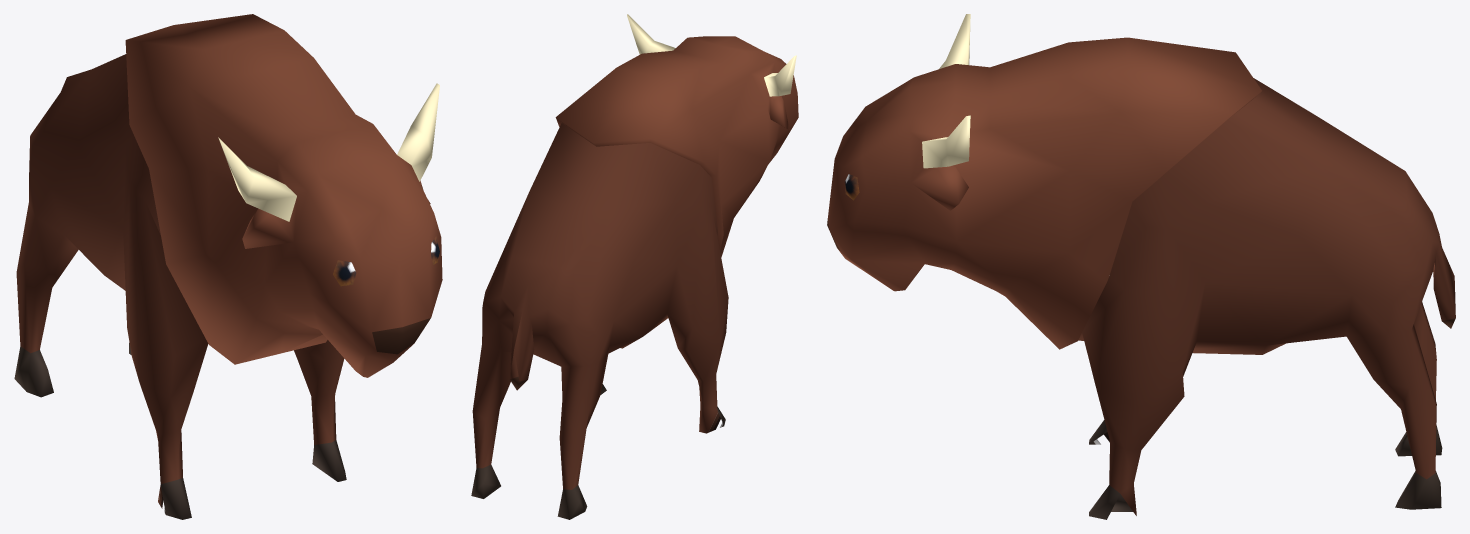
File: Bison.glb
3 renders of one model, left to right at view 1: azimuth 30°, elevation 25°; view 2: azimuth 150°, elevation 25°; view 3: azimuth 270°, elevation 25°, orthographic. The views are drawn at different scales.
Visible parts, largest first — view 1: Bison; view 2: Bison; view 3: Bison.
Boxes of the visible parts, bbox=[...] form: Bison: bbox=[14, 14, 442, 519]; Bison: bbox=[471, 14, 798, 519]; Bison: bbox=[827, 14, 1455, 519].
Size of what is drawn, in the model's own units: 0.9995 by 1.93 by 2.6.
Materials: 1 (1 with a texture image).
